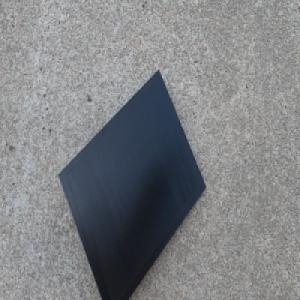PlasticPart: (57, 68, 206, 300)
